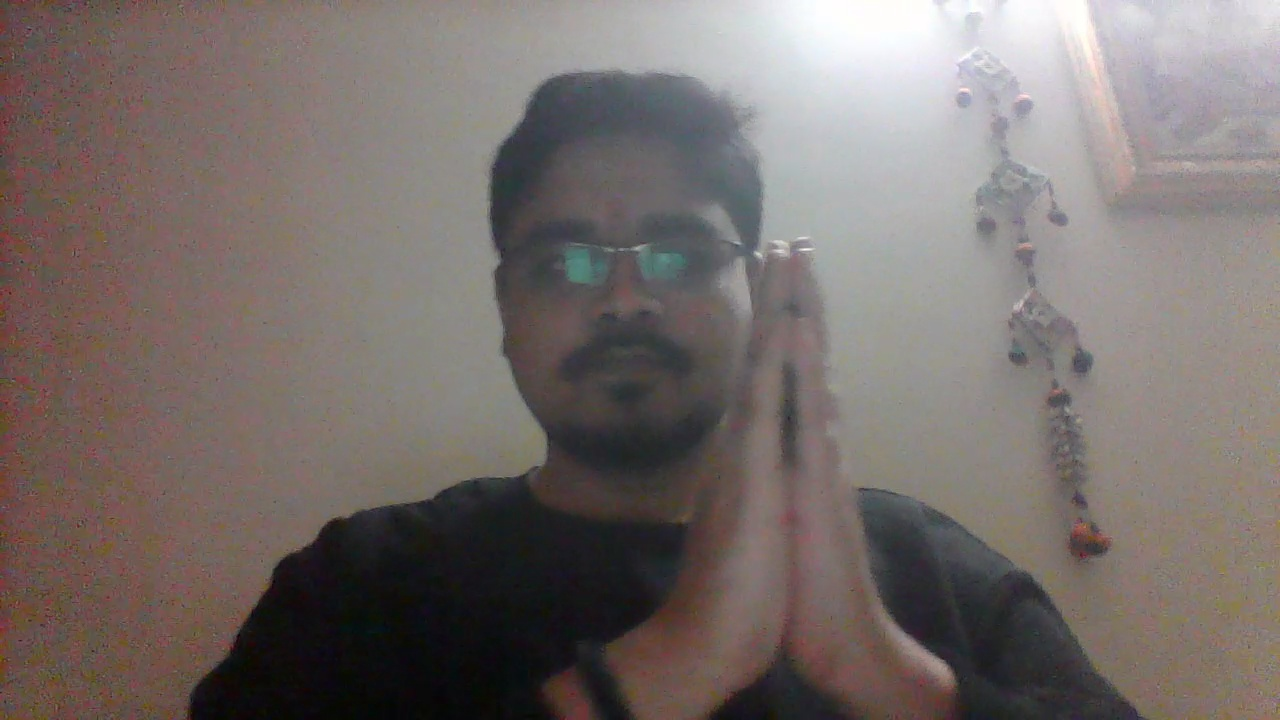Namaste: (684, 238, 902, 712)
